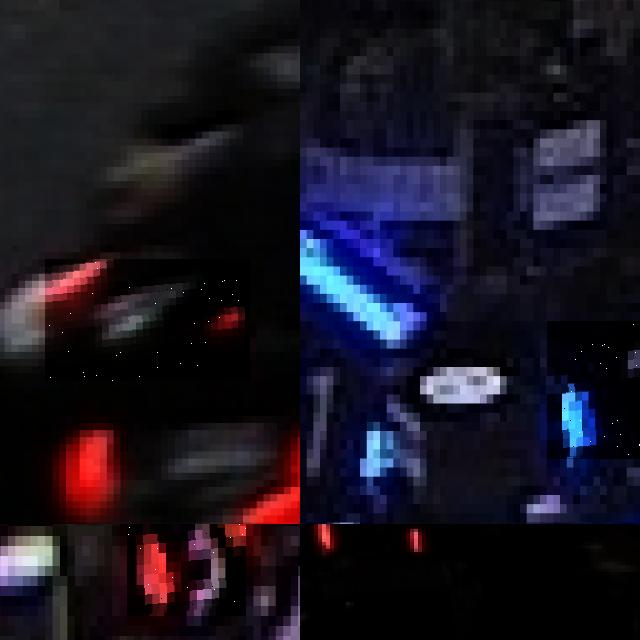B1: (546, 321, 640, 458)
R3: (127, 524, 246, 616)
R4: (45, 259, 250, 381)
